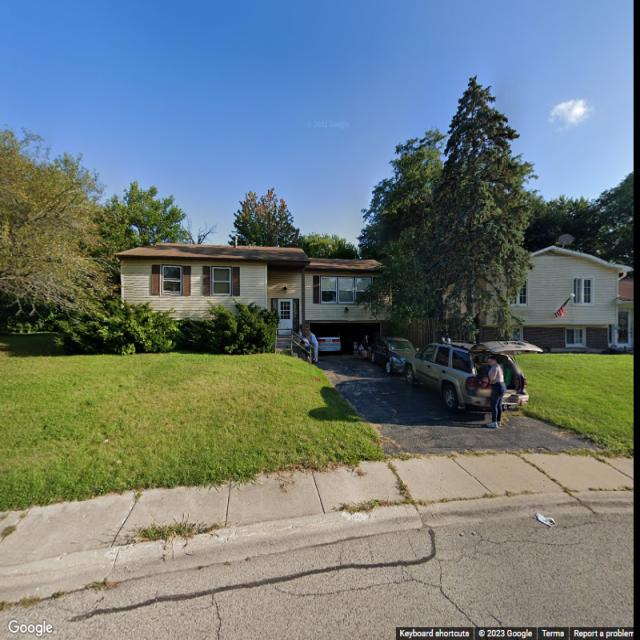House: (115, 239, 392, 361), (442, 245, 634, 352)
